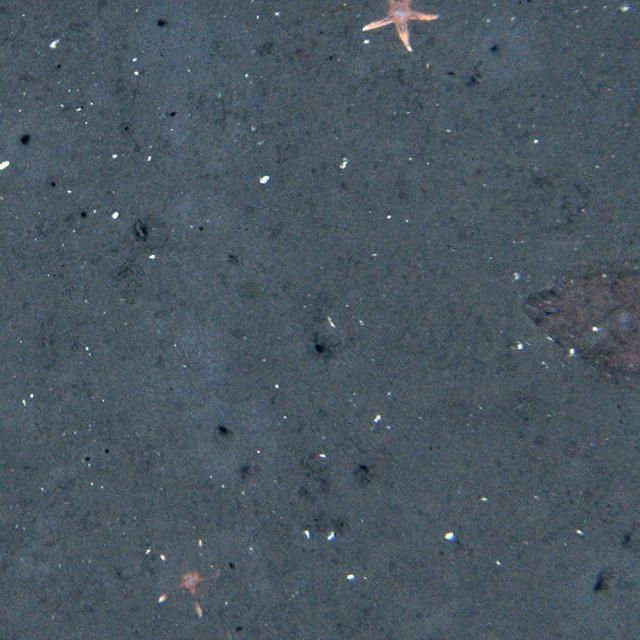flatfish: (526, 257, 640, 375)
